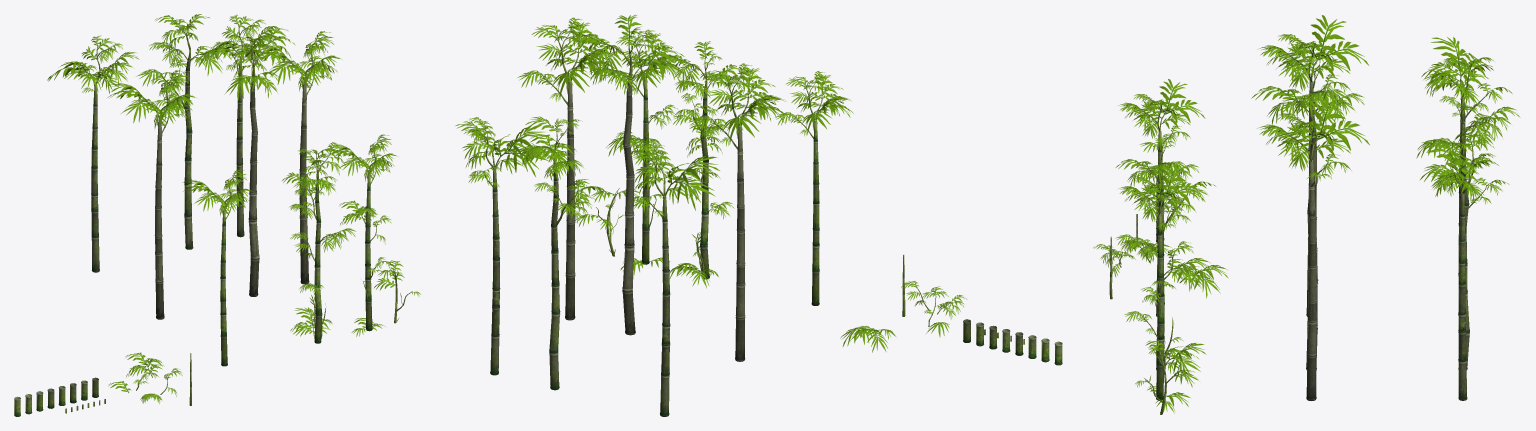
File: bambooset.glb
3 views of the same model, side by side, from view 1: azimuth 30°, elevation 25°; view 2: azimuth 150°, elevation 25°; view 3: azimuth 270°, elevation 25° (orthographic). The views are drawn at different scales.
Parts seen in each view (by area): view 1: Object_5, Object_56, Object_34, Object_44, Object_4; view 2: Object_5, Object_56, Object_34, Object_44, Object_4; view 3: Object_5, Object_56, Object_4, Object_44, Object_34.
Boxes of the visible parts, left/top/right/bottom form: Object_5: left=47, top=14, right=420, bottom=403; Object_56: left=154, top=79, right=309, bottom=319; Object_34: left=14, top=79, right=372, bottom=416; Object_44: left=91, top=60, right=244, bottom=272; Object_4: left=65, top=24, right=412, bottom=413; Object_5: left=455, top=14, right=967, bottom=352; Object_56: left=565, top=79, right=745, bottom=361; Object_34: left=641, top=74, right=1062, bottom=365; Object_44: left=490, top=168, right=670, bottom=416; Object_4: left=482, top=28, right=1024, bottom=344; Object_5: left=1093, top=15, right=1520, bottom=413; Object_56: left=1306, top=80, right=1318, bottom=400; Object_4: left=1109, top=60, right=1489, bottom=414; Object_44: left=1458, top=96, right=1469, bottom=400; Object_34: left=1155, top=39, right=1327, bottom=400.
Size of the model in its own units: 72.67 by 47.04 by 56.86.
Materials: 5 (5 with a texture image).
